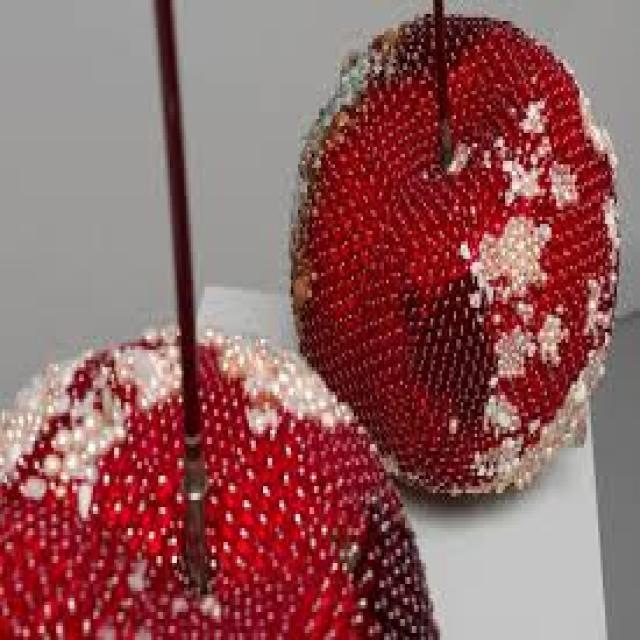food_waste: (0, 0, 614, 637)
